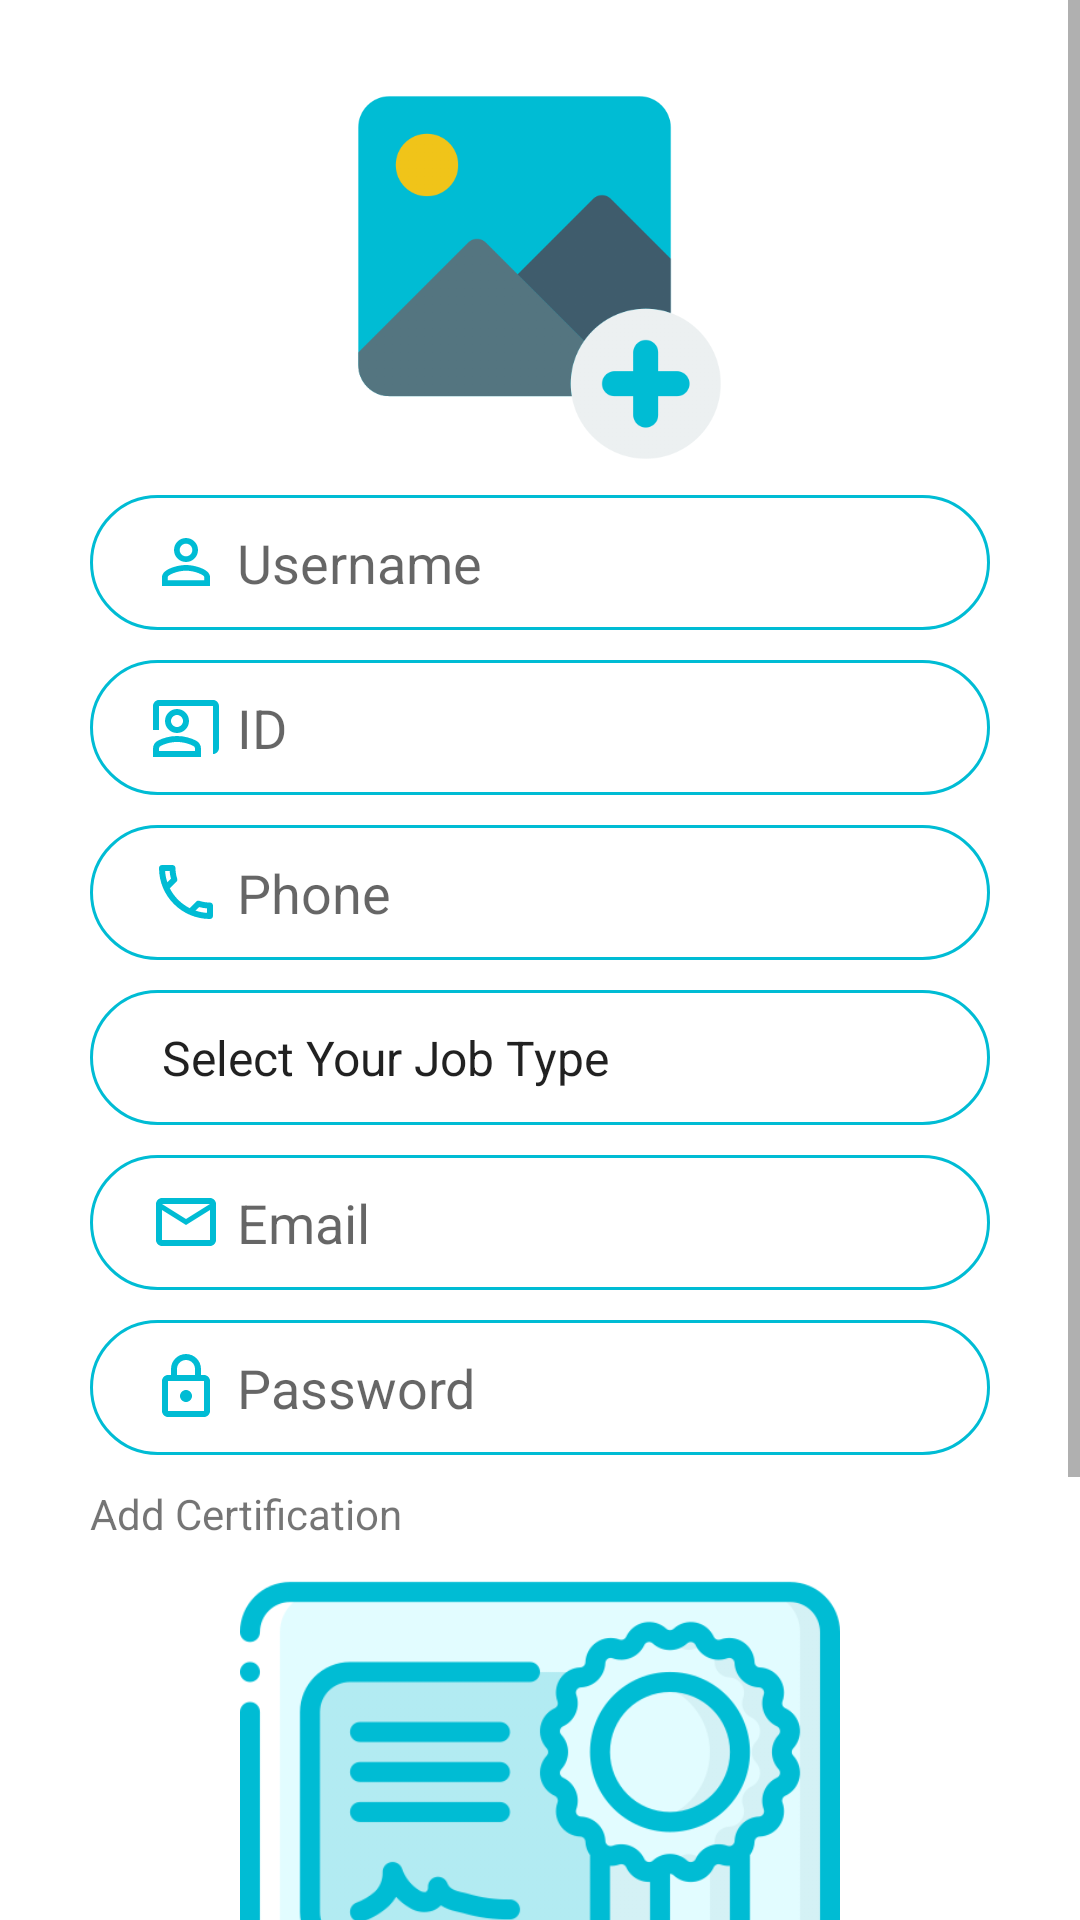

Icons on this 1080*1920 Android screen, each with its box as (x1, y1, x2, y2):
add: (358, 96, 690, 428)
